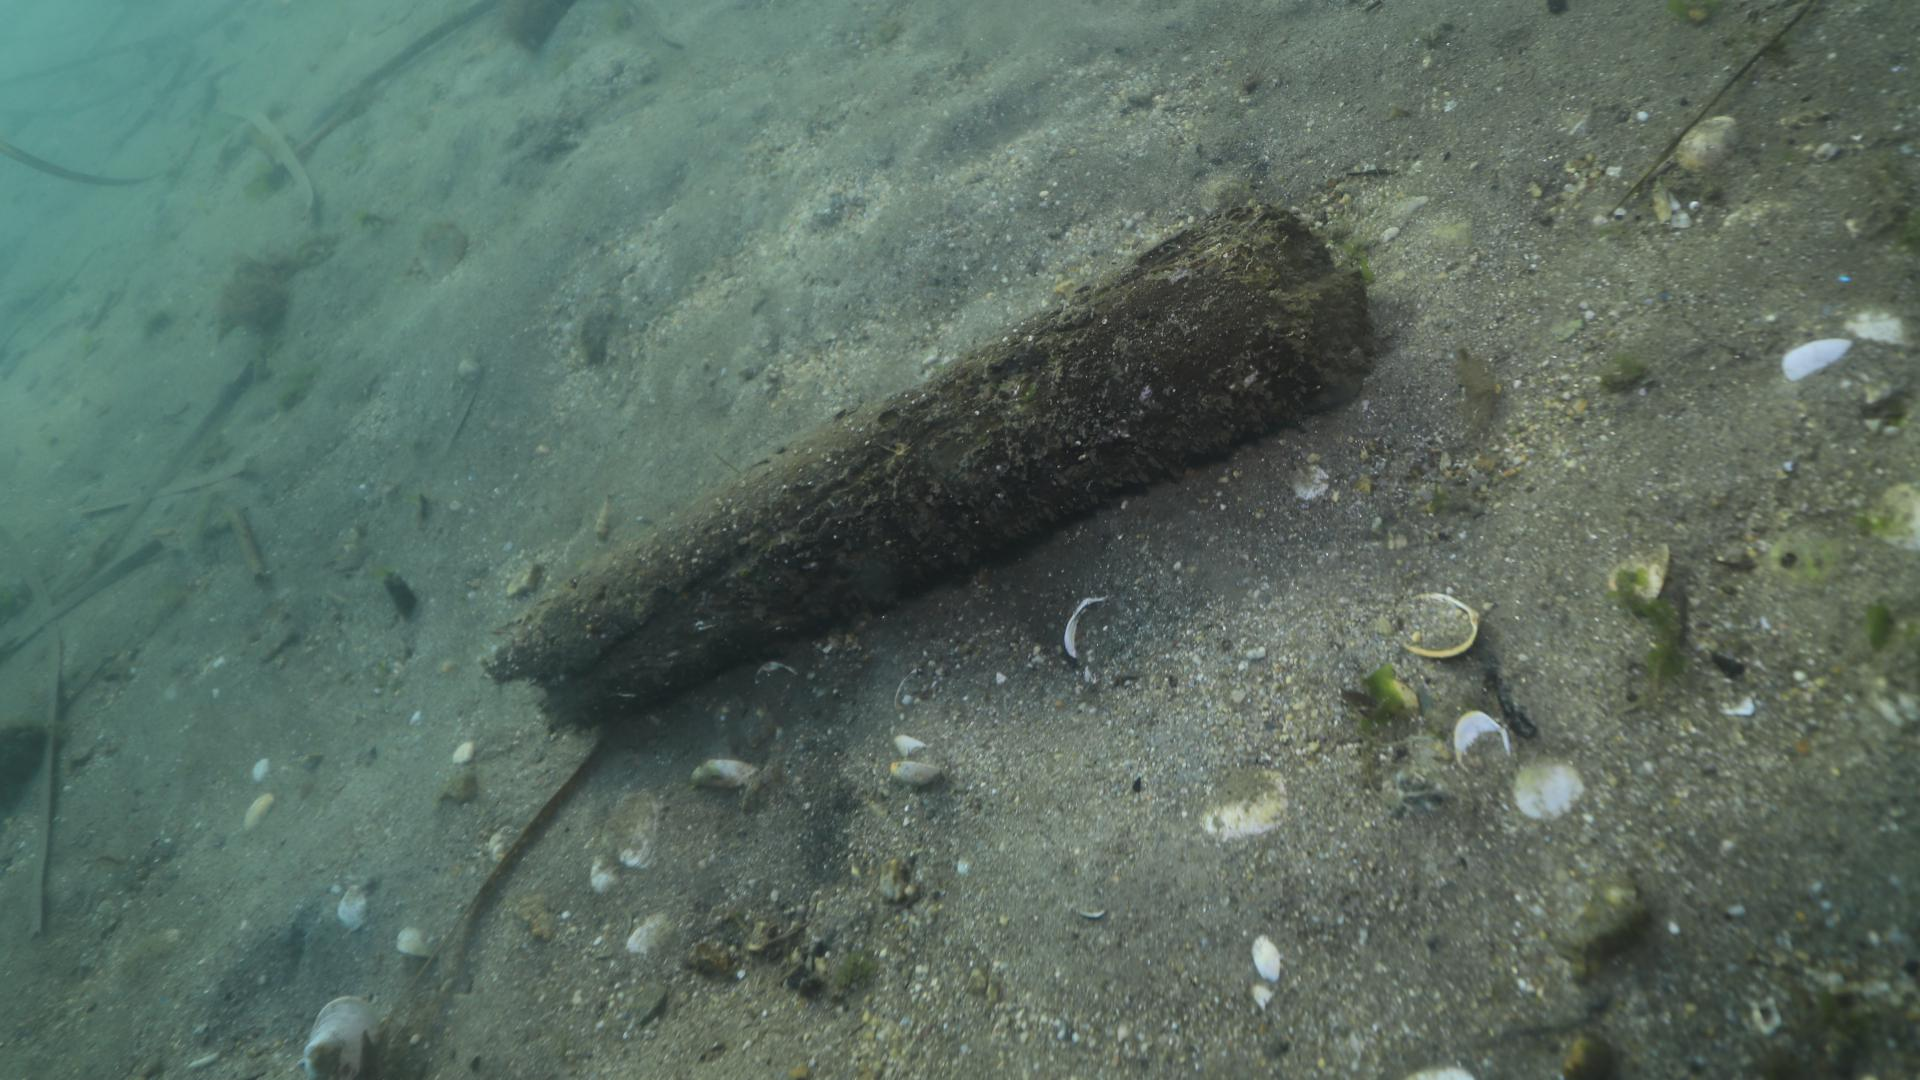wood: (483, 200, 1367, 736)
